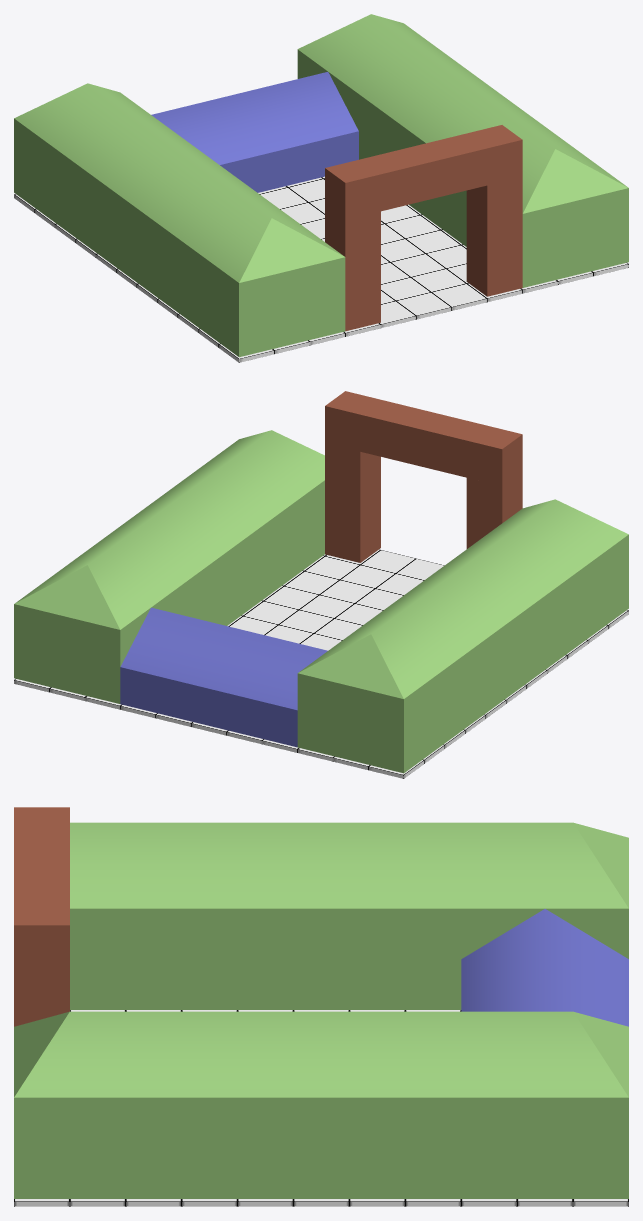
Rendered from XG_Inn.glb.
3 renders of one model, top to bottom at view 1: azimuth 30°, elevation 25°; view 2: azimuth 150°, elevation 25°; view 3: azimuth 270°, elevation 25°, orthographic. The views are drawn at different scales.
Parts seen in each view (by area): view 1: building_9m_3m_011, building_9m_3m_021, building_9m_3m_012, Box032, Box029, Box028, 1m_base_block_3217, 1m_base_block_3218, 1m_base_block_3196, 1m_base_block_3161, 1m_base_block_3208, 1m_base_block_3137 (+7 smaller); view 2: building_9m_3m_011, building_9m_3m_021, building_9m_3m_012, Box032, Box029, Box028, 1m_base_block_3196, 1m_base_block_3207, 1m_base_block_3208, 1m_base_block_3136, 1m_base_block_3161, 1m_base_block_3197 (+8 smaller); view 3: building_9m_3m_021, building_9m_3m_011, building_9m_3m_012, Box032, Box029.
Part boxes in pixels (x1=…): building_9m_3m_011: x1=14, y1=83, x2=345, y2=357; building_9m_3m_021: x1=297, y1=14, x2=628, y2=287; building_9m_3m_012: x1=151, y1=72, x2=358, y2=192; Box032: x1=325, y1=125, x2=522, y2=219; Box029: x1=466, y1=177, x2=522, y2=296; Box028: x1=325, y1=205, x2=380, y2=331; 1m_base_block_3217: x1=432, y1=283, x2=487, y2=310; 1m_base_block_3218: x1=396, y1=292, x2=451, y2=319; 1m_base_block_3196: x1=405, y1=230, x2=460, y2=253; 1m_base_block_3161: x1=385, y1=215, x2=439, y2=238; 1m_base_block_3208: x1=411, y1=269, x2=466, y2=292; 1m_base_block_3137: x1=391, y1=253, x2=445, y2=276; building_9m_3m_011: x1=297, y1=499, x2=628, y2=773; building_9m_3m_021: x1=14, y1=430, x2=324, y2=703; building_9m_3m_012: x1=120, y1=607, x2=327, y2=747; Box032: x1=325, y1=391, x2=522, y2=486; Box029: x1=325, y1=443, x2=380, y2=562; Box028: x1=466, y1=471, x2=522, y2=548; 1m_base_block_3196: x1=264, y1=586, x2=318, y2=609; 1m_base_block_3207: x1=305, y1=556, x2=359, y2=579; 1m_base_block_3208: x1=340, y1=565, x2=395, y2=588; 1m_base_block_3136: x1=284, y1=571, x2=339, y2=594; 1m_base_block_3161: x1=243, y1=601, x2=298, y2=624; 1m_base_block_3197: x1=299, y1=595, x2=354, y2=618; building_9m_3m_021: x1=14, y1=1011, x2=628, y2=1198; building_9m_3m_011: x1=70, y1=822, x2=628, y2=1009; building_9m_3m_012: x1=461, y1=909, x2=628, y2=1026; Box032: x1=14, y1=807, x2=69, y2=975; Box029: x1=14, y1=976, x2=69, y2=1026.
Size of the model in its own units: 11 by 4.15 by 11.
4 materials, 1 textured.
